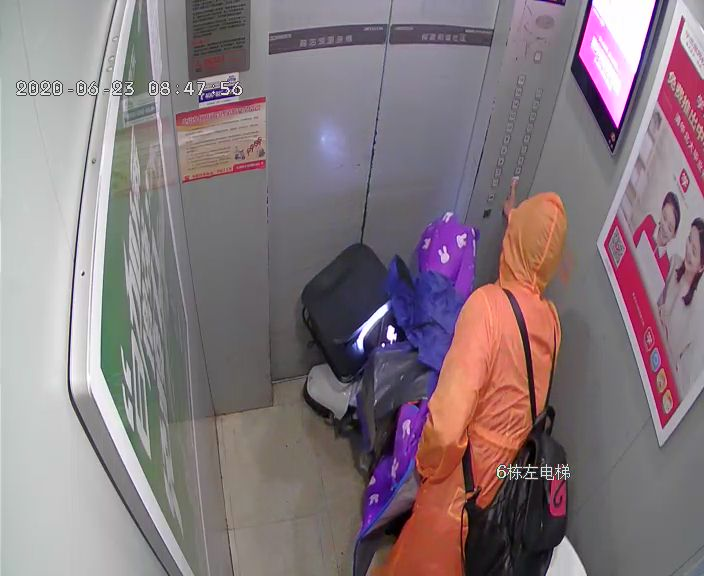Electric-bicycle: (303, 223, 475, 458)
